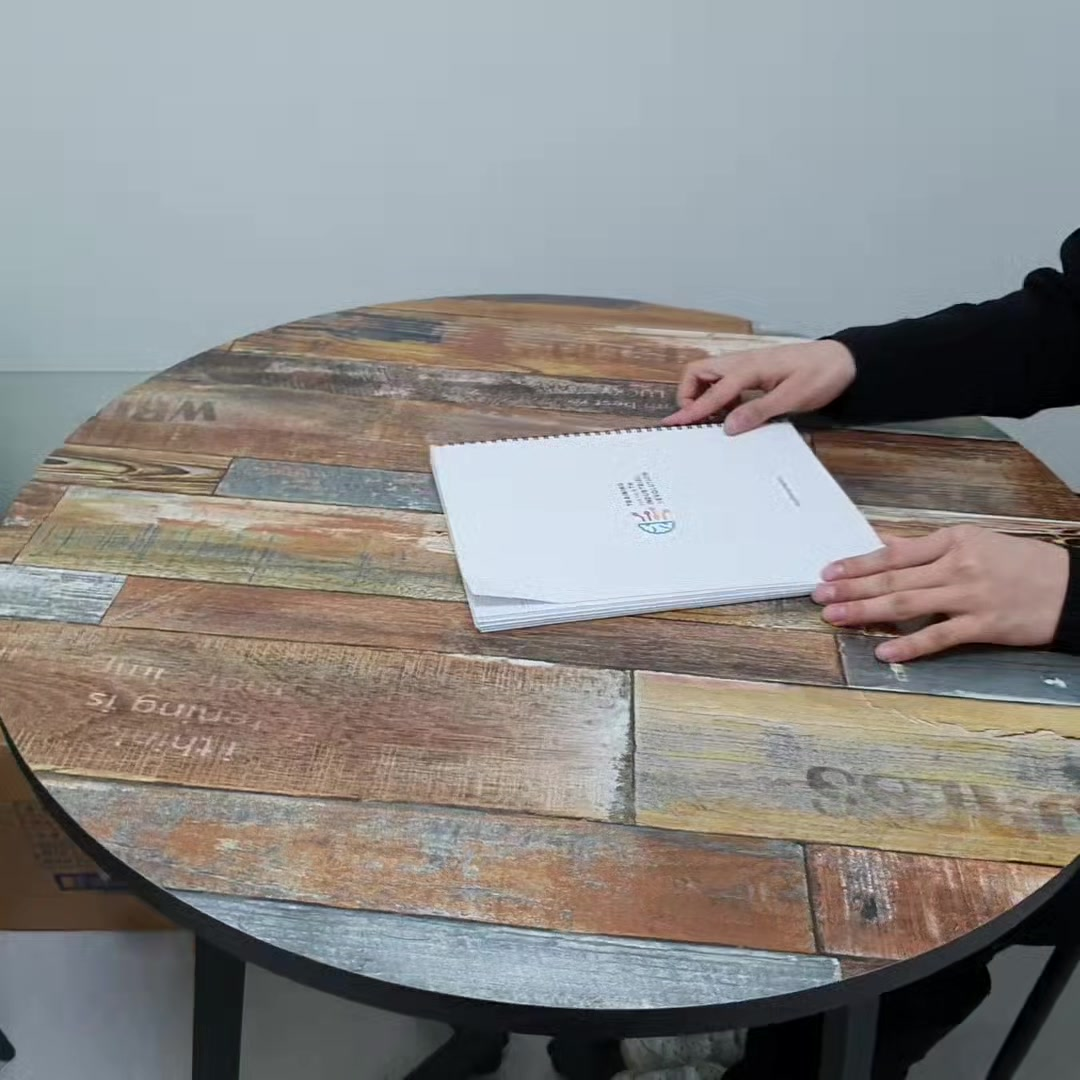book: (423, 402, 893, 624)
